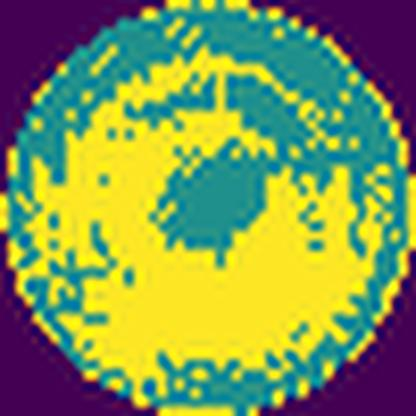Donut: (20, 44, 396, 399)
